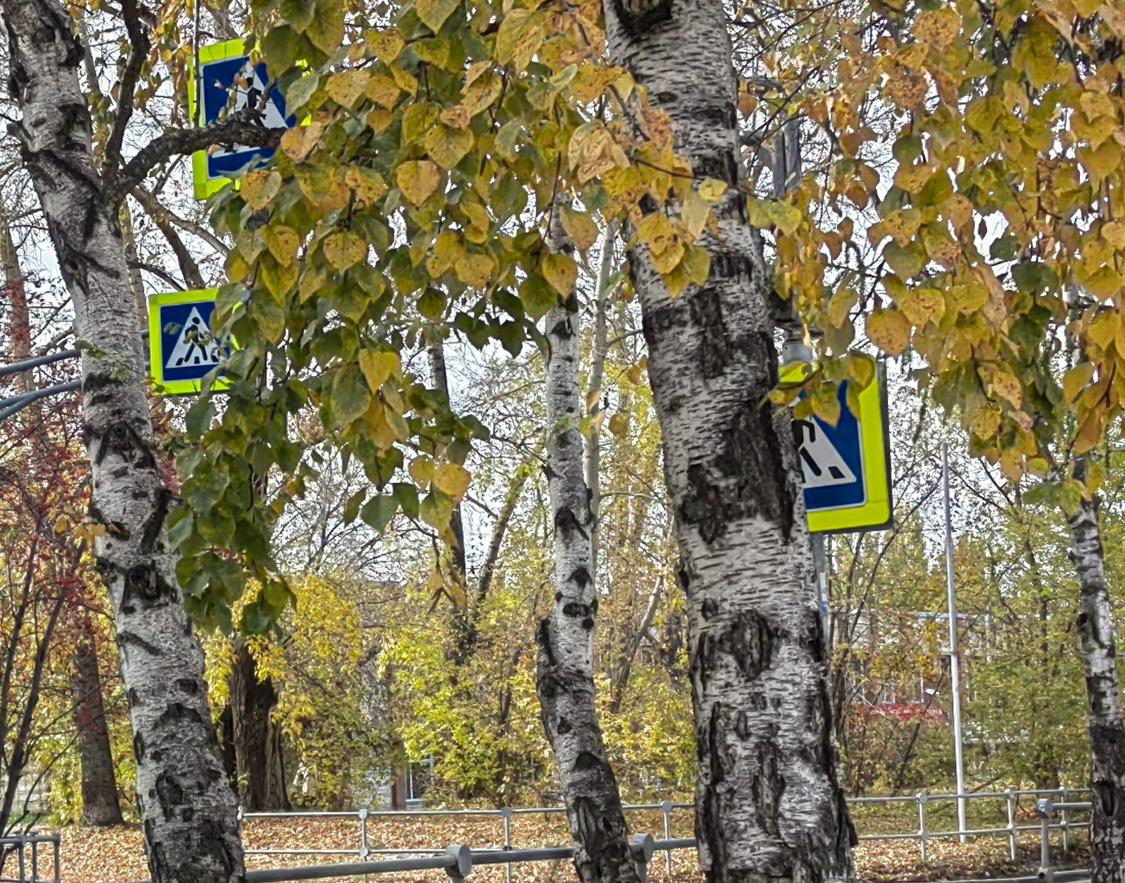obstructed_road_sign: (184, 23, 313, 200), (778, 354, 893, 534), (147, 286, 254, 393)
